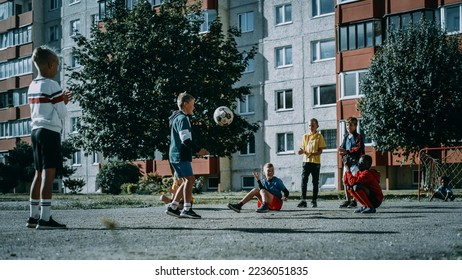Person: (24, 45, 73, 230), (163, 89, 207, 245), (229, 156, 291, 213), (301, 119, 325, 207)
